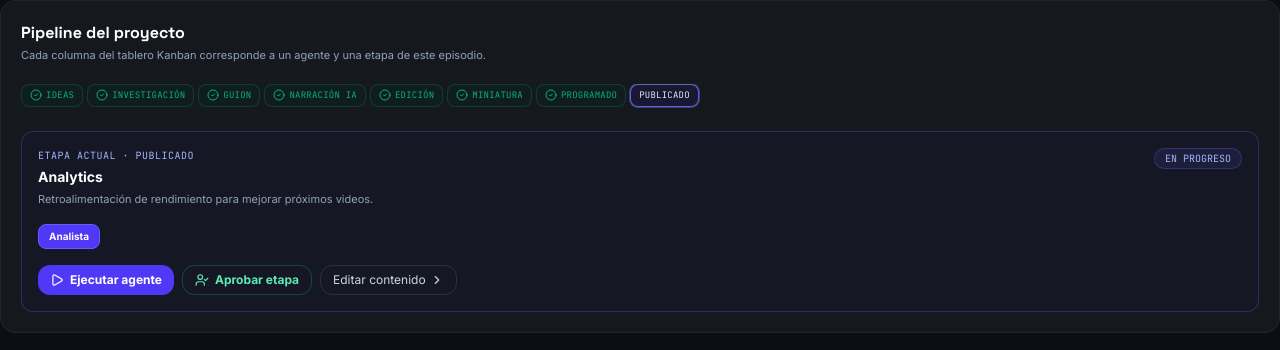
Test: ProjectPipelinePanel stepper navigation › navigates to narracion tab when Narración IA step is clicked
Click the button "Narración IA": [315, 95] box [264,84,366,107]
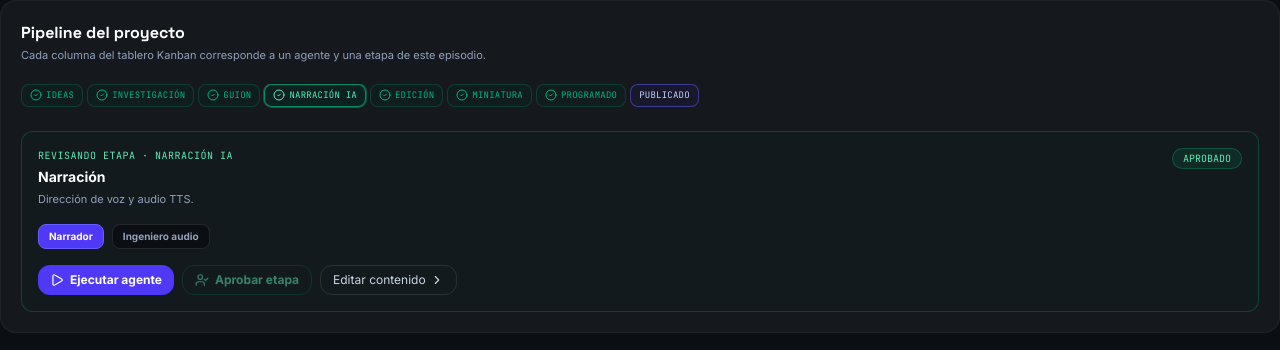
Now the text "Revisando etapa · Narración IA" is shown, box [38,148,233,163]
